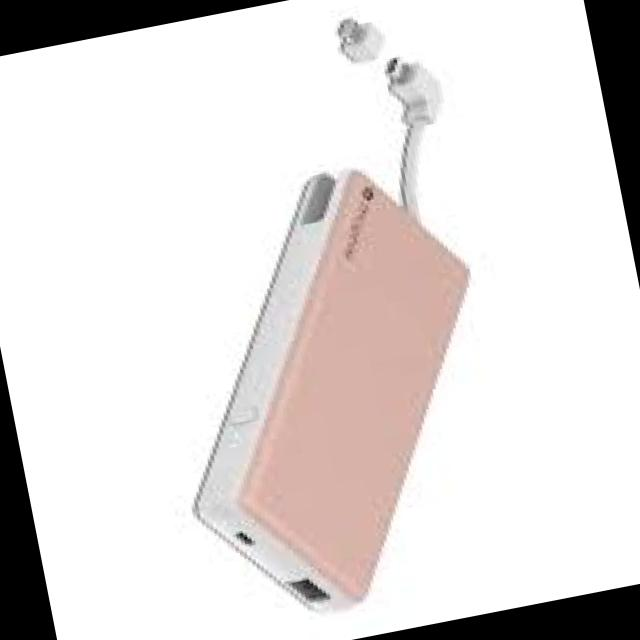power_bank: (118, 142, 536, 640)
